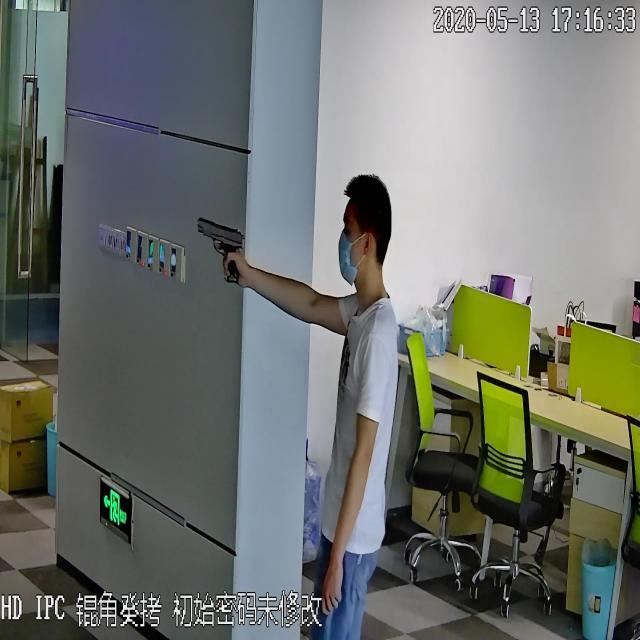gun: (196, 208, 247, 294)
